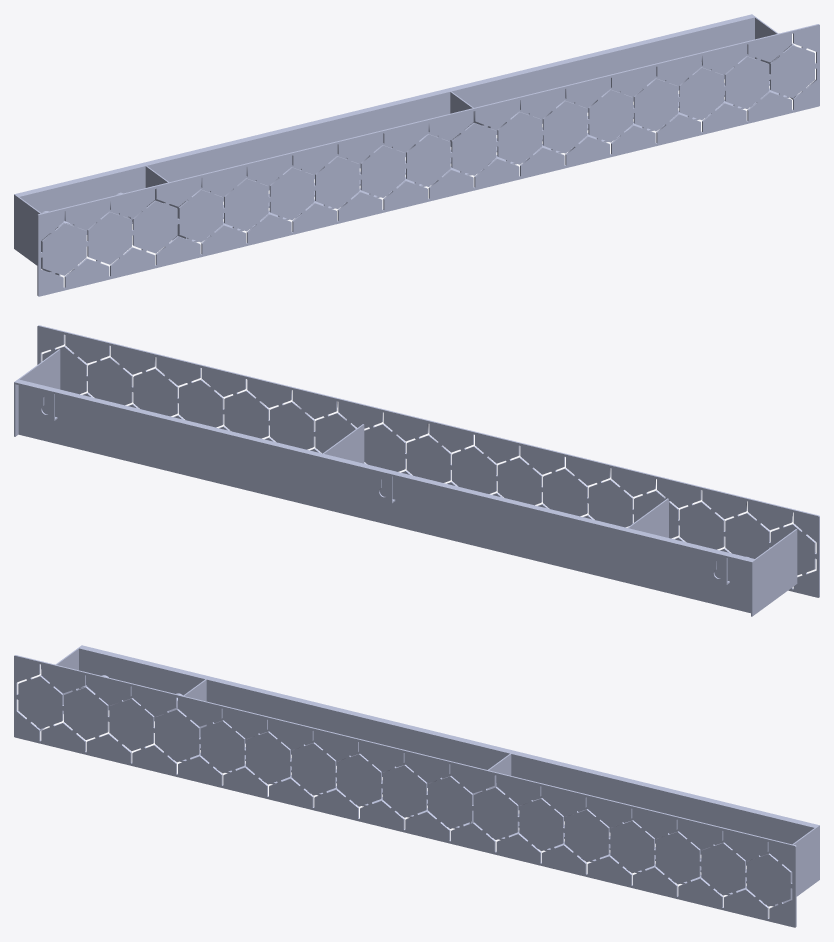
The model's file is bee-patron.4e6bc626c0.glb.
The picture shows the model from 3 angles, top to bottom: view 1: azimuth 30°, elevation 25°; view 2: azimuth 150°, elevation 25°; view 3: azimuth 330°, elevation 25°; orthographic projection.
Parts seen in each view (by area): view 1: NAUO1; view 2: NAUO1; view 3: NAUO1.
Part boxes in pixels (bbox=[...]): NAUO1: bbox=[14, 14, 819, 296]; NAUO1: bbox=[14, 325, 819, 616]; NAUO1: bbox=[14, 645, 819, 927].
Size of the model in its own units: 0.9 by 0.09 by 0.092.
